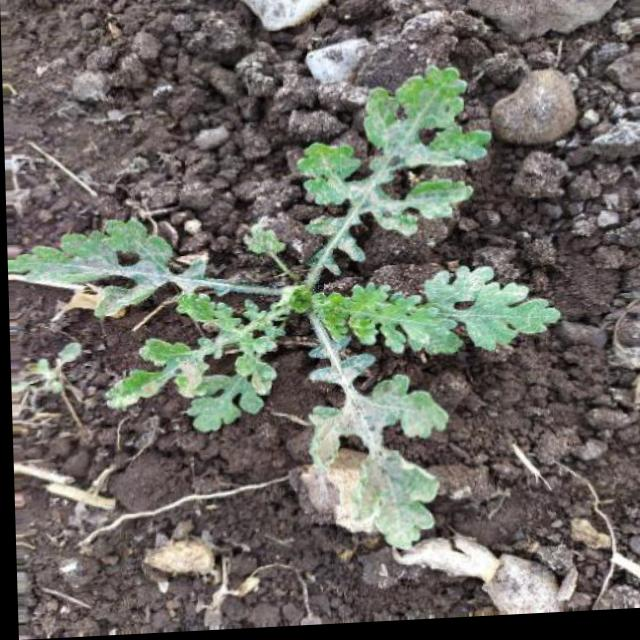weed: (15, 79, 561, 492)
